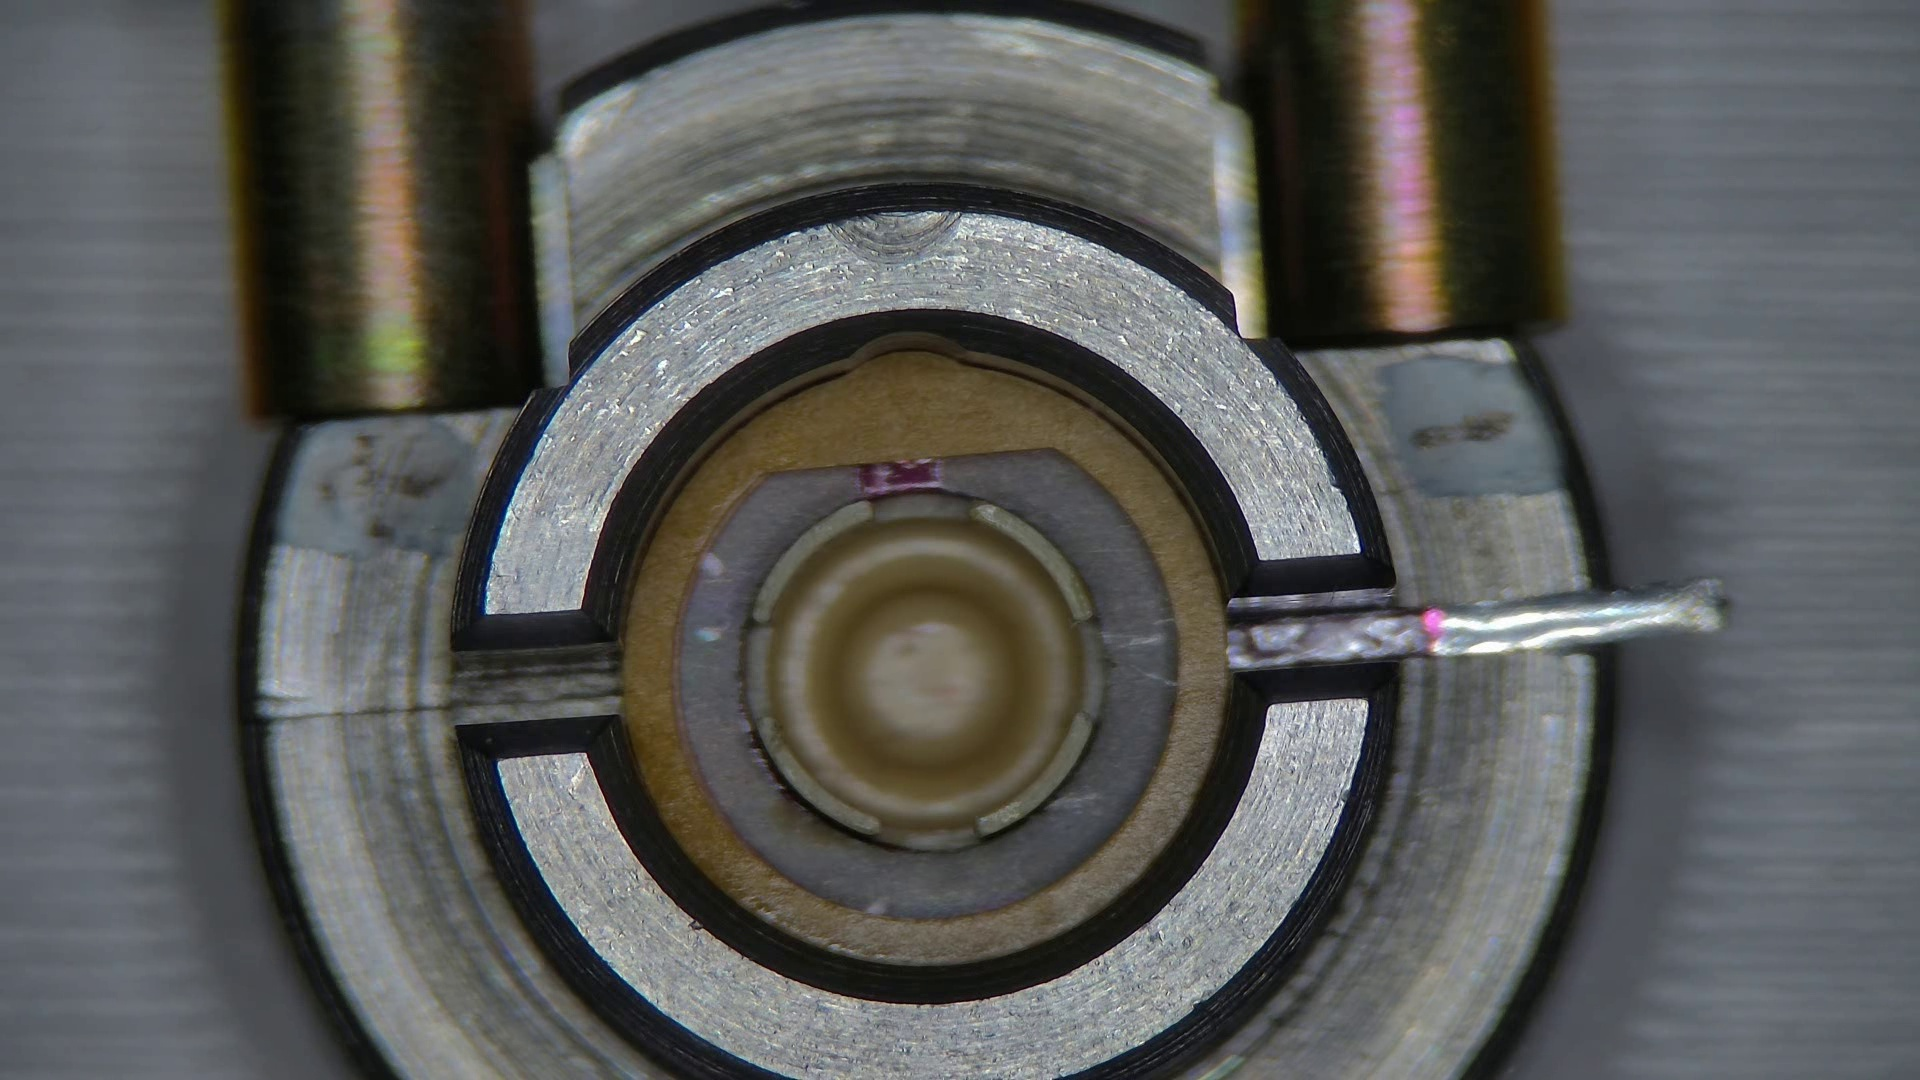YellowOring: (678, 458, 1175, 918)
redOring: (624, 348, 1228, 957)
